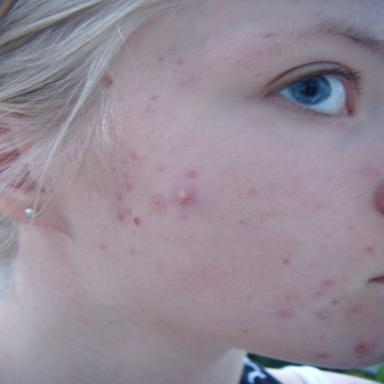acne: (172, 186, 196, 205), (354, 343, 370, 355), (347, 303, 366, 313), (276, 308, 293, 319), (153, 198, 165, 207), (322, 280, 335, 287), (318, 311, 329, 319), (186, 170, 197, 178)
